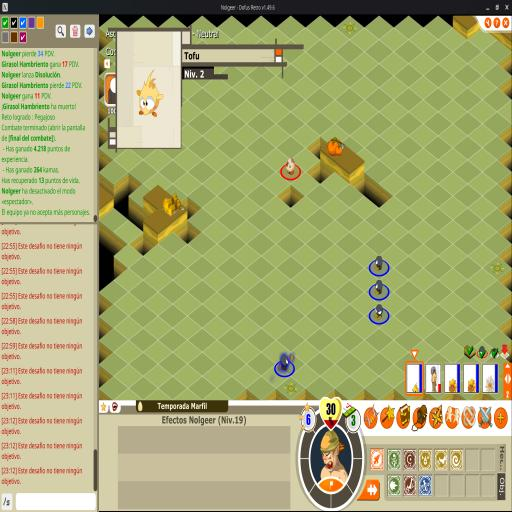Enemigos: (278, 352, 294, 372), (374, 254, 384, 272), (374, 303, 384, 321), (374, 279, 384, 296)
Personaje: (286, 156, 296, 176)
